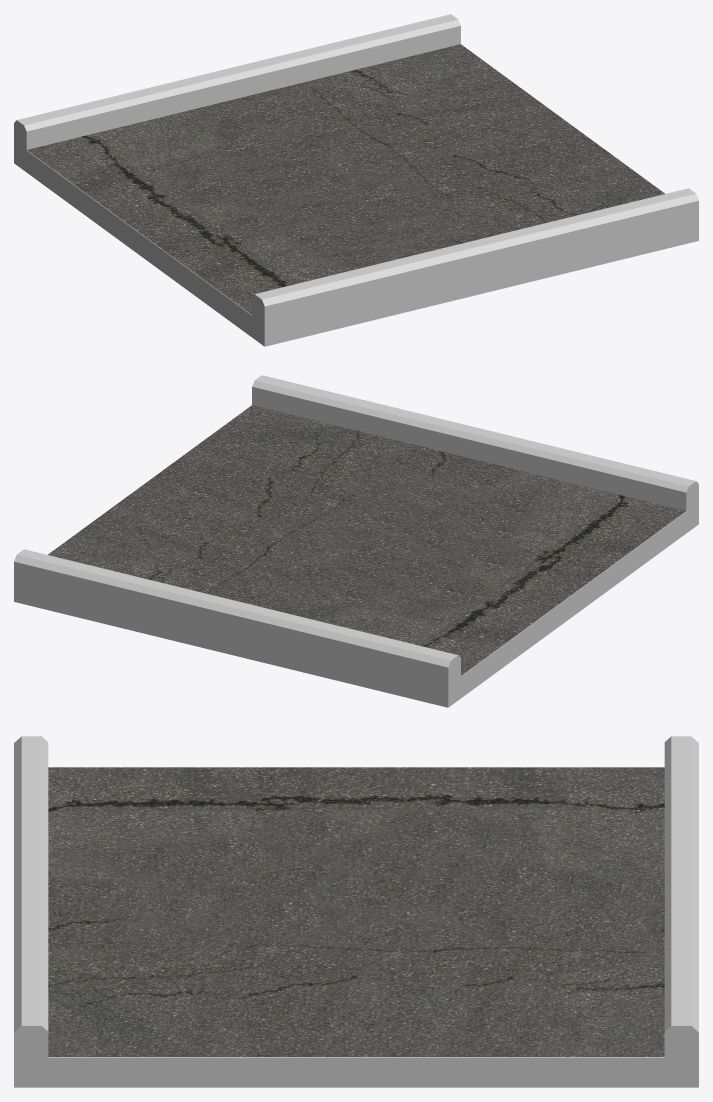
File: yeniyol.fbx
The picture shows the model from 3 angles, top to bottom: view 1: azimuth 30°, elevation 25°; view 2: azimuth 150°, elevation 25°; view 3: azimuth 270°, elevation 25°; orthographic projection. The views are drawn at different scales.
Parts seen in each view (by area): view 1: taslar, yol; view 2: taslar, yol; view 3: taslar, yol.
Boxes of the visible parts, x1=… form: taslar: x1=27, y1=44, x2=664, y2=314; yol: x1=14, y1=14, x2=698, y2=346; taslar: x1=48, y1=405, x2=685, y2=675; yol: x1=14, y1=375, x2=698, y2=707; taslar: x1=48, y1=767, x2=664, y2=1056; yol: x1=14, y1=736, x2=698, y2=1087.
Bounding box in the file's own units: 200 × 19.9 × 200.
2 materials, 1 textured.
